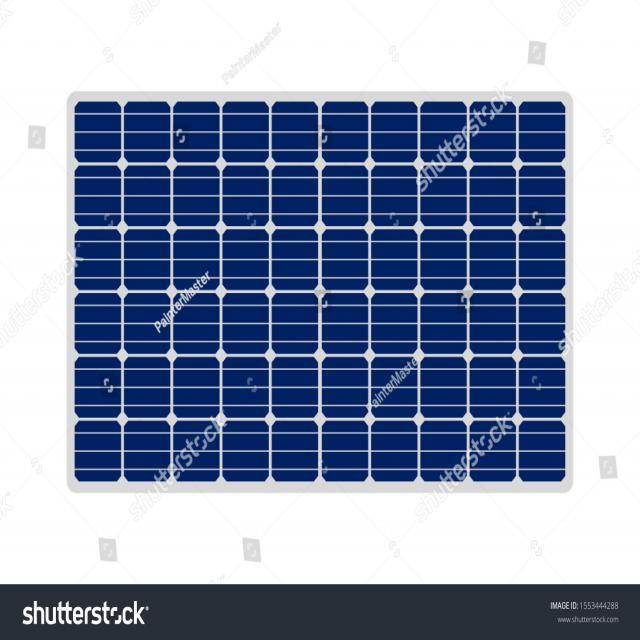no faulty: (67, 104, 567, 482)
